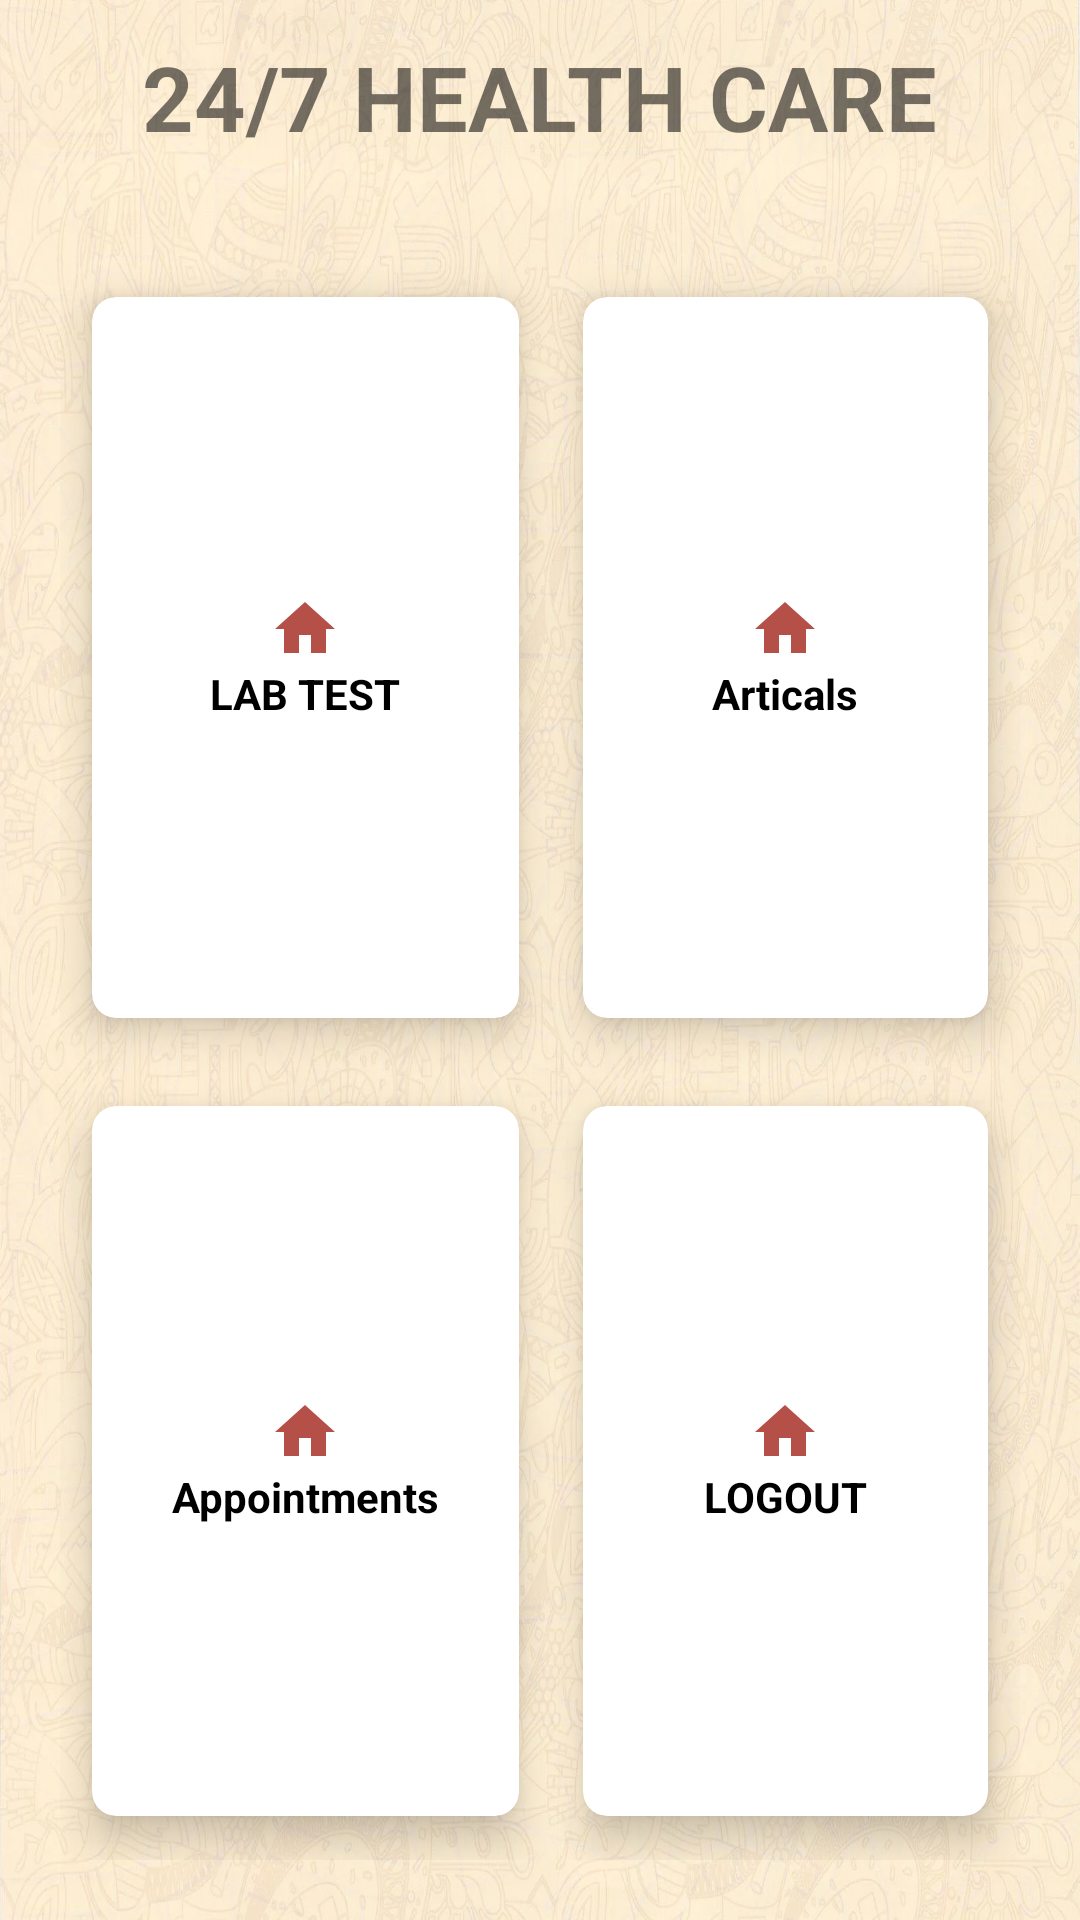

Screen size 1080w x 1920h. Icon name, then its center in pixels as (x=x, y=y):
home: (x=305, y=627), (x=785, y=627), (x=305, y=1430), (x=785, y=1430)
